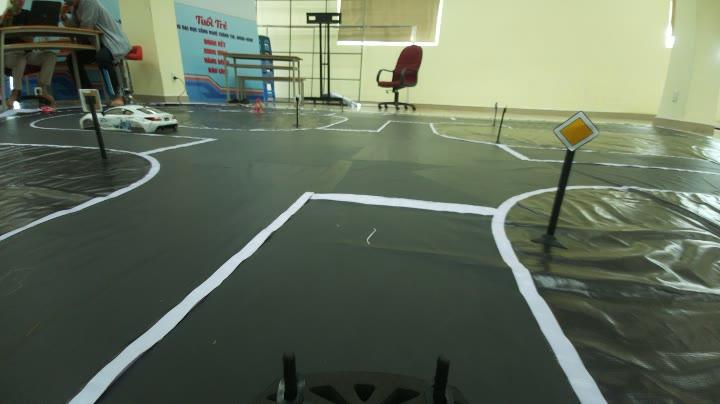priority: (548, 114, 614, 146)
